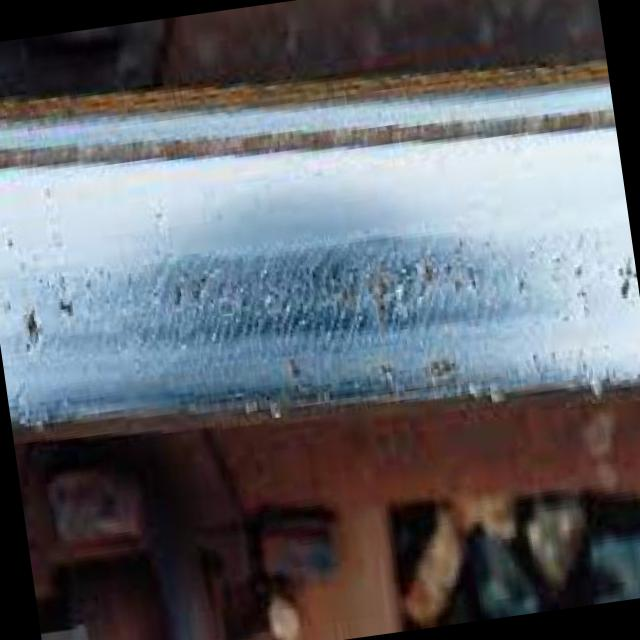defective: (0, 3, 640, 528)
